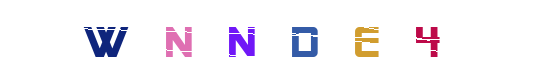4: (388, 0, 468, 80)
D: (242, 0, 322, 80)
E: (325, 0, 405, 80)
N: (155, 0, 235, 80), (201, 0, 281, 80)
W: (147, 0, 227, 80)
